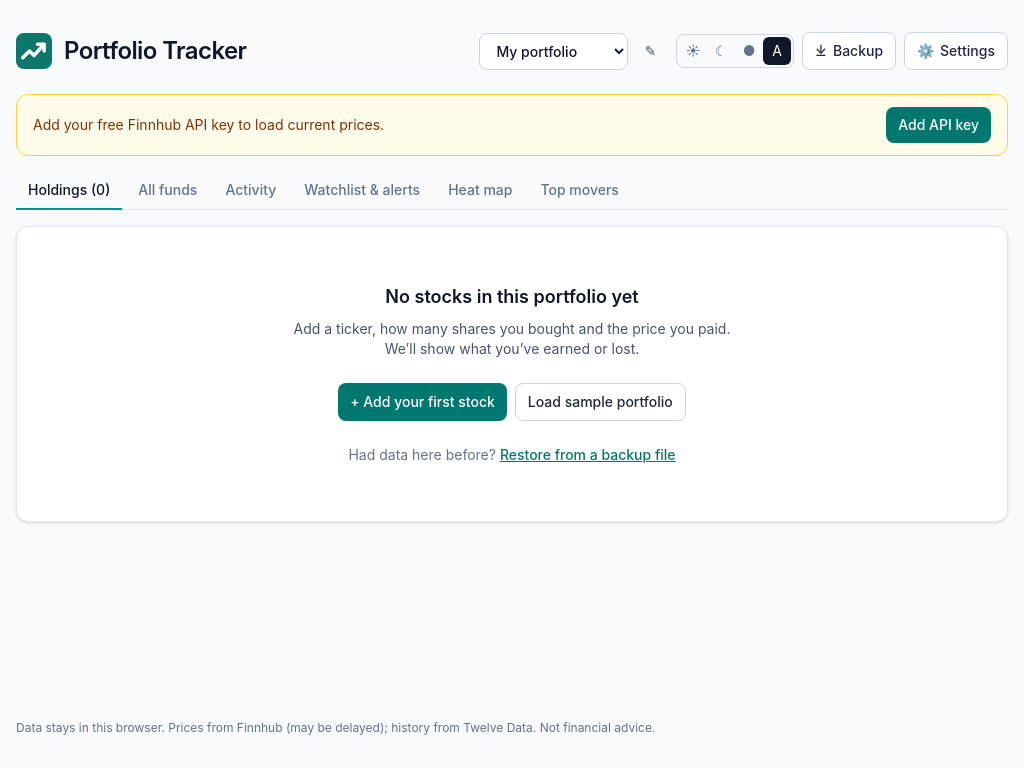
Test: App › validates the form
Click the button "+ Add your first stock": (422, 402) [338, 383, 507, 421]
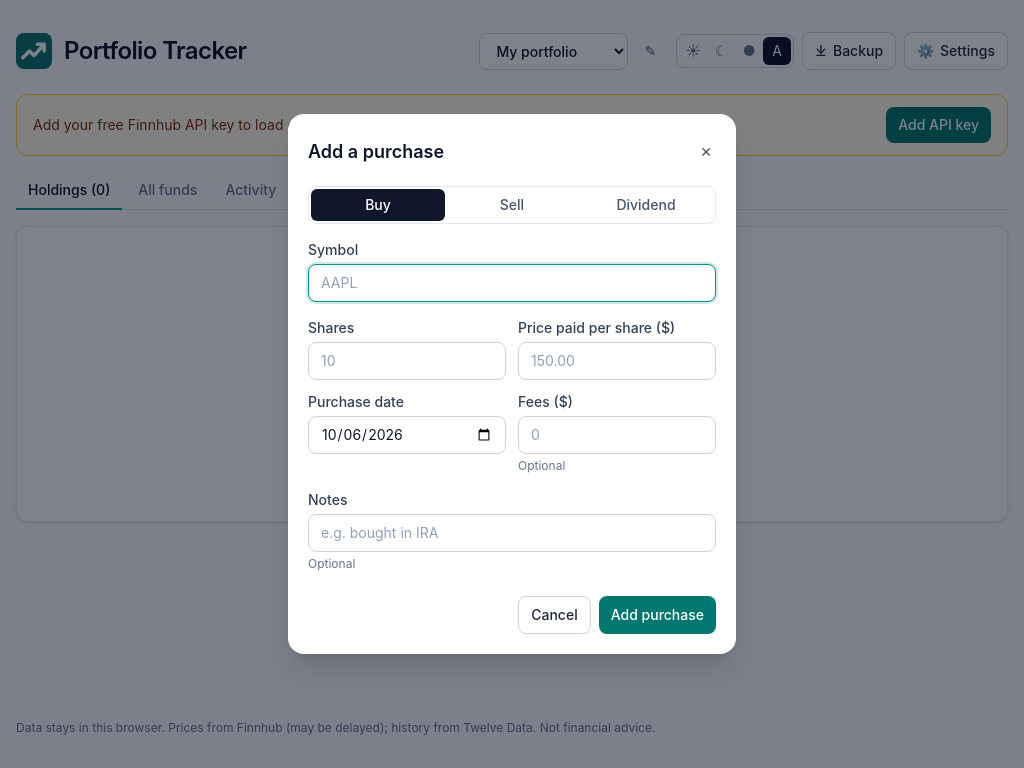
Click the button "Add purchase": (657, 615) [599, 596, 716, 634]
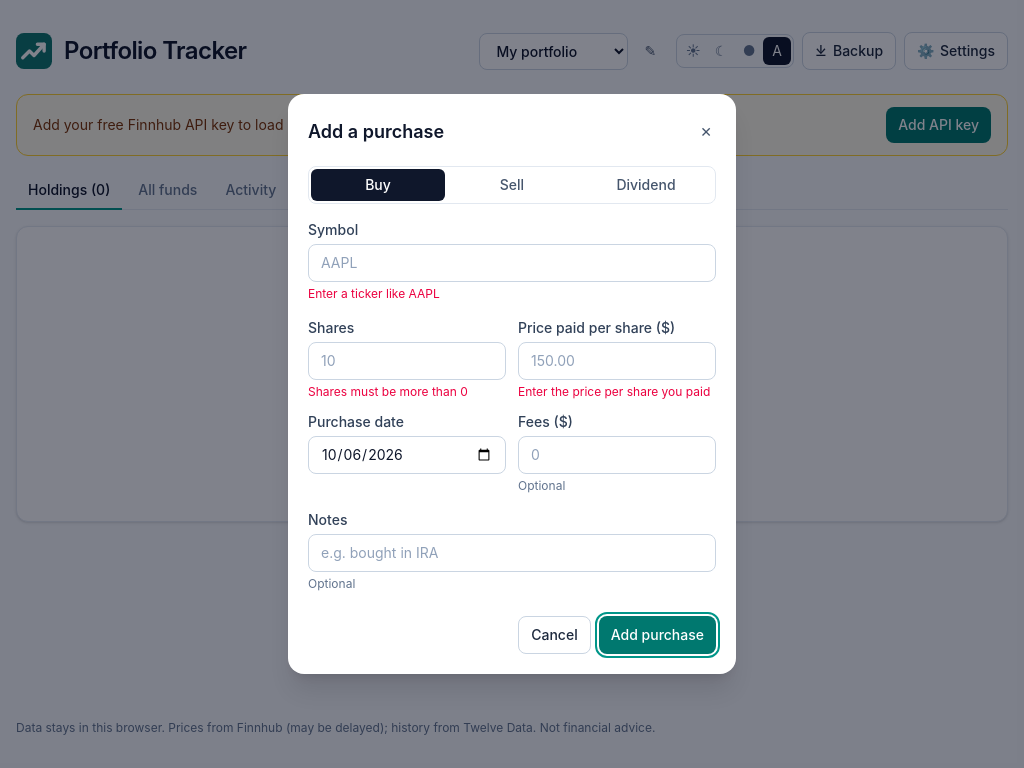
Check: the text "Enter a ticker like AAPL" is shown, box [308, 286, 440, 301]
Check: the text "Shares must be more than 0" is shown, box [308, 384, 468, 399]
